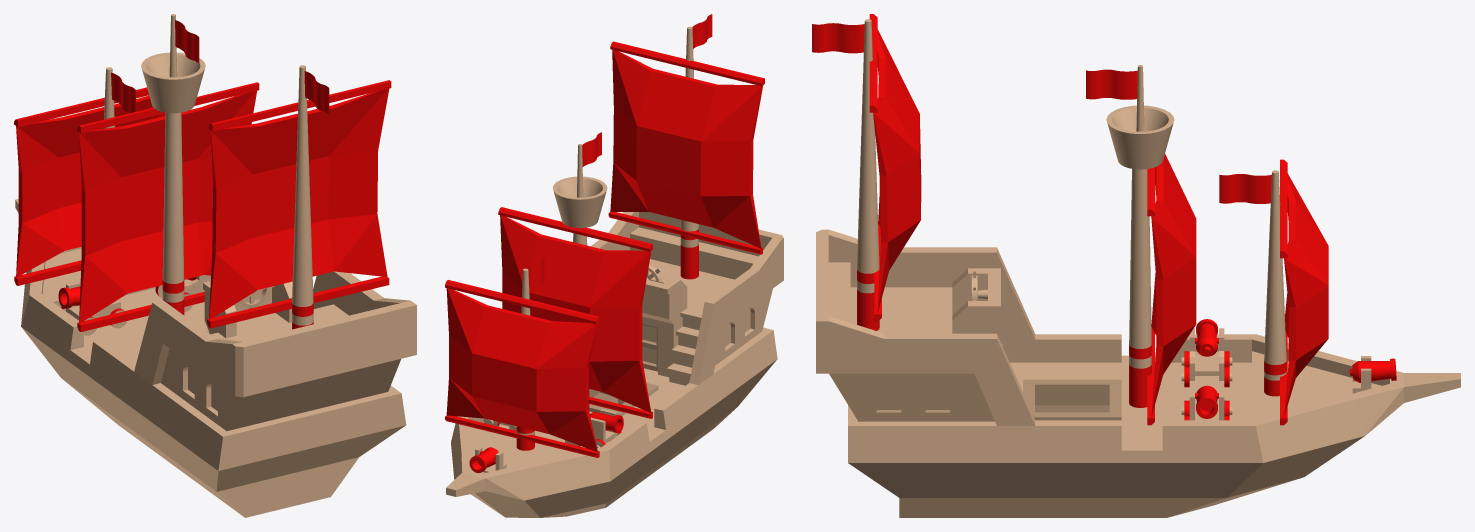
The model's file is pirate_ship_red.fbx.
3 renders of one model, left to right at view 1: azimuth 30°, elevation 25°; view 2: azimuth 150°, elevation 25°; view 3: azimuth 270°, elevation 25°, orthographic. The views are drawn at different scales.
Parts seen in each view (by area): view 1: ship_dark_8angles, sail_back, sail_middle, sail_front, cannon_left; view 2: ship_dark_8angles, sail_back, sail_front, sail_middle, cannon_left (×2), cannon_front; view 3: ship_dark_8angles, sail_back, sail_middle, sail_front, cannon_left (×2), cannon_front.
Part boxes in pixels (x1,y1,x2,y2): ship_dark_8angles: [15, 14, 416, 517]; sail_back: [207, 80, 391, 328]; sail_middle: [77, 82, 259, 331]; sail_front: [14, 87, 165, 285]; cannon_left: [66, 281, 120, 320]; ship_dark_8angles: [446, 14, 783, 517]; sail_back: [608, 41, 764, 254]; sail_front: [445, 280, 599, 457]; sail_middle: [498, 207, 652, 418]; cannon_left (×2): [590, 408, 623, 443]; cannon_front: [469, 447, 498, 473]; ship_dark_8angles: [812, 19, 1460, 517]; sail_back: [869, 14, 921, 321]; sail_middle: [1147, 154, 1196, 425]; sail_front: [1280, 159, 1328, 425]; cannon_left (×2): [1189, 319, 1224, 380]; cannon_front: [1349, 358, 1396, 382].
Size of the model in its own units: 2850 by 6546 by 8098.
